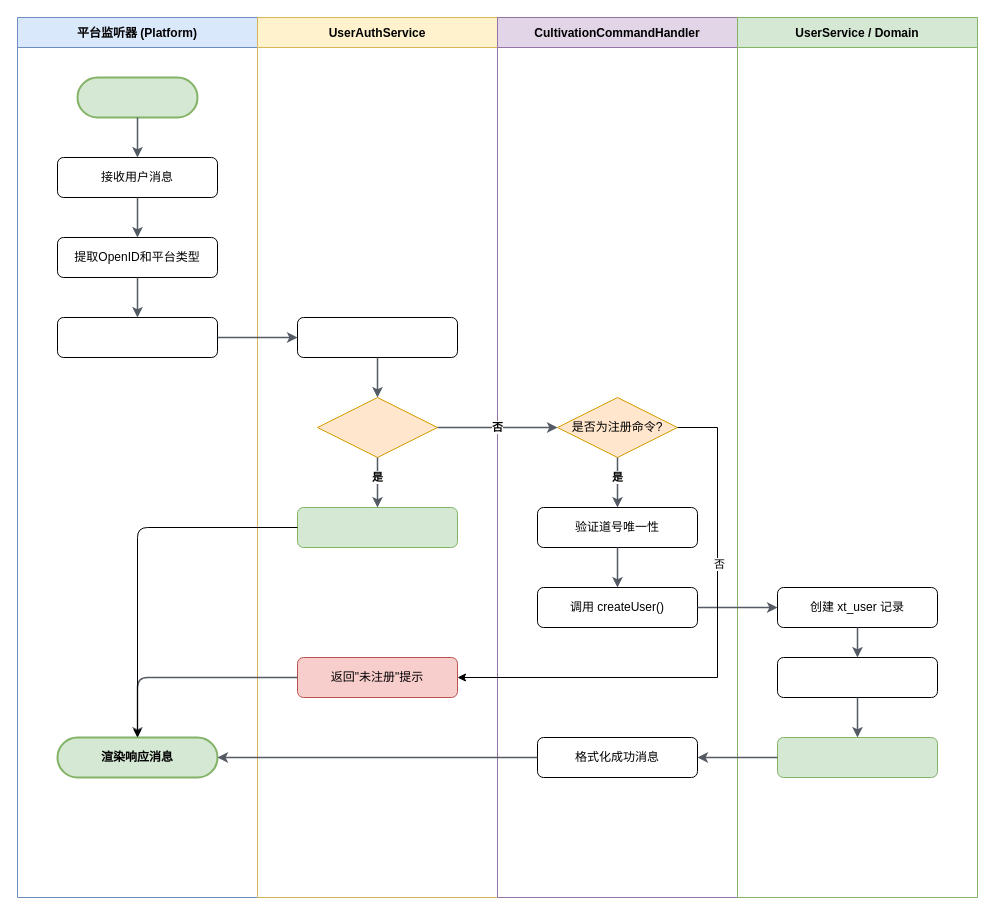
Some shapes in this 995 by 915 pixel diagram are drawn without their labels. Each missing label, with the centre of its shape:
创建 xt_user_auth 记录: pixel 857 677
开始: pixel 137 97
是否已绑定?: pixel 377 427
查询 xt_user_auth 表: pixel 377 337
调用 authenticate(): pixel 137 337
返回”已注册“提示: pixel 377 527
返回新用户信息: pixel 857 757
